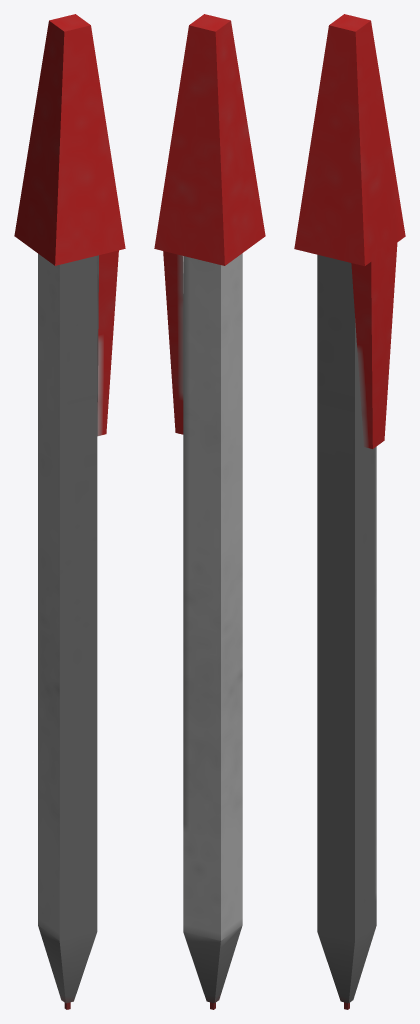
The model's file is SM_Pen.fbx.
The picture shows the model from 3 angles, left to right: view 1: azimuth 30°, elevation 25°; view 2: azimuth 150°, elevation 25°; view 3: azimuth 330°, elevation 25°; orthographic projection.
Visible parts, largest first — view 1: SM_Pen_LOD0; view 2: SM_Pen_LOD0; view 3: SM_Pen_LOD0.
Part boxes in pixels (x1,y1,x2,y2): SM_Pen_LOD0: (14, 14, 125, 1009); SM_Pen_LOD0: (154, 14, 265, 1009); SM_Pen_LOD0: (294, 14, 405, 1009).
Size of the model in its own units: 0.8217 by 0.8216 by 10.97.
1 material, 1 textured.
